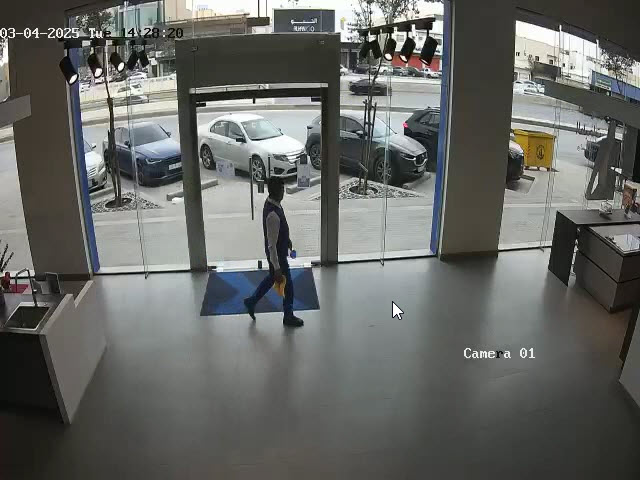employee: (243, 176, 304, 328)
other: (585, 93, 628, 208)
